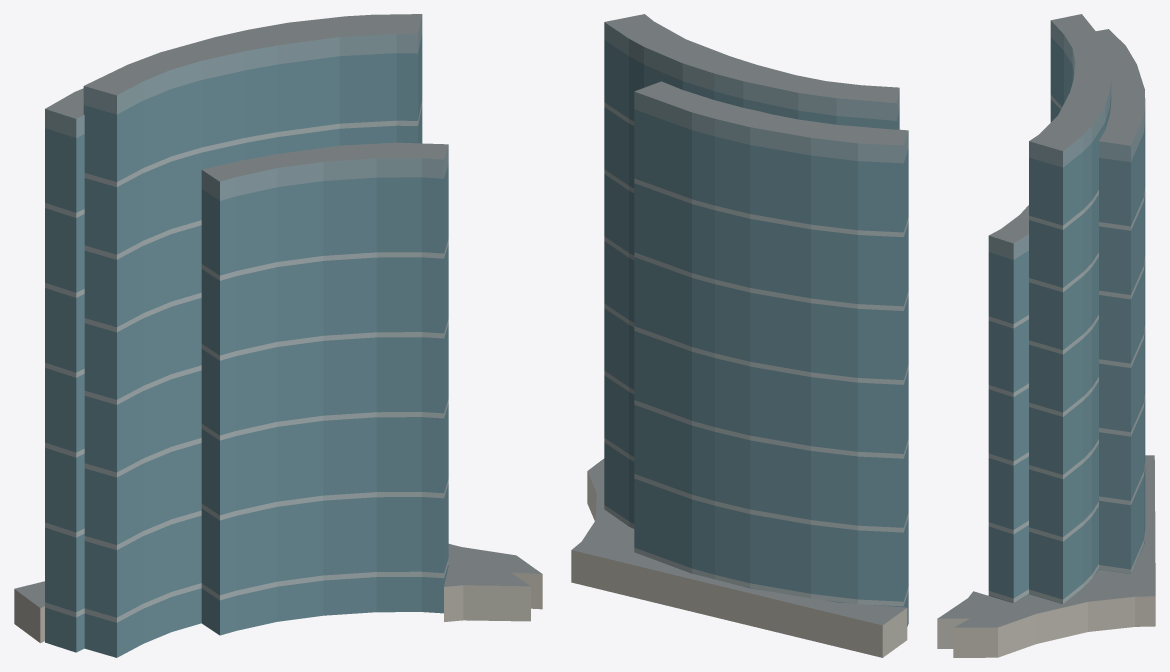
File: vdara.glb
3 renders of one model, left to right at view 1: azimuth 30°, elevation 25°; view 2: azimuth 150°, elevation 25°; view 3: azimuth 270°, elevation 25°, orthographic. The views are drawn at different scales.
Visible parts, largest first — view 1: HotelTower; view 2: HotelTower; view 3: HotelTower.
Boxes of the visible parts, x1,y1,x2,y2 form: HotelTower: (14,14,542,657); HotelTower: (571,14,908,657); HotelTower: (937,14,1155,657).
Size of the model in its own units: 135 by 176 by 72.14.
